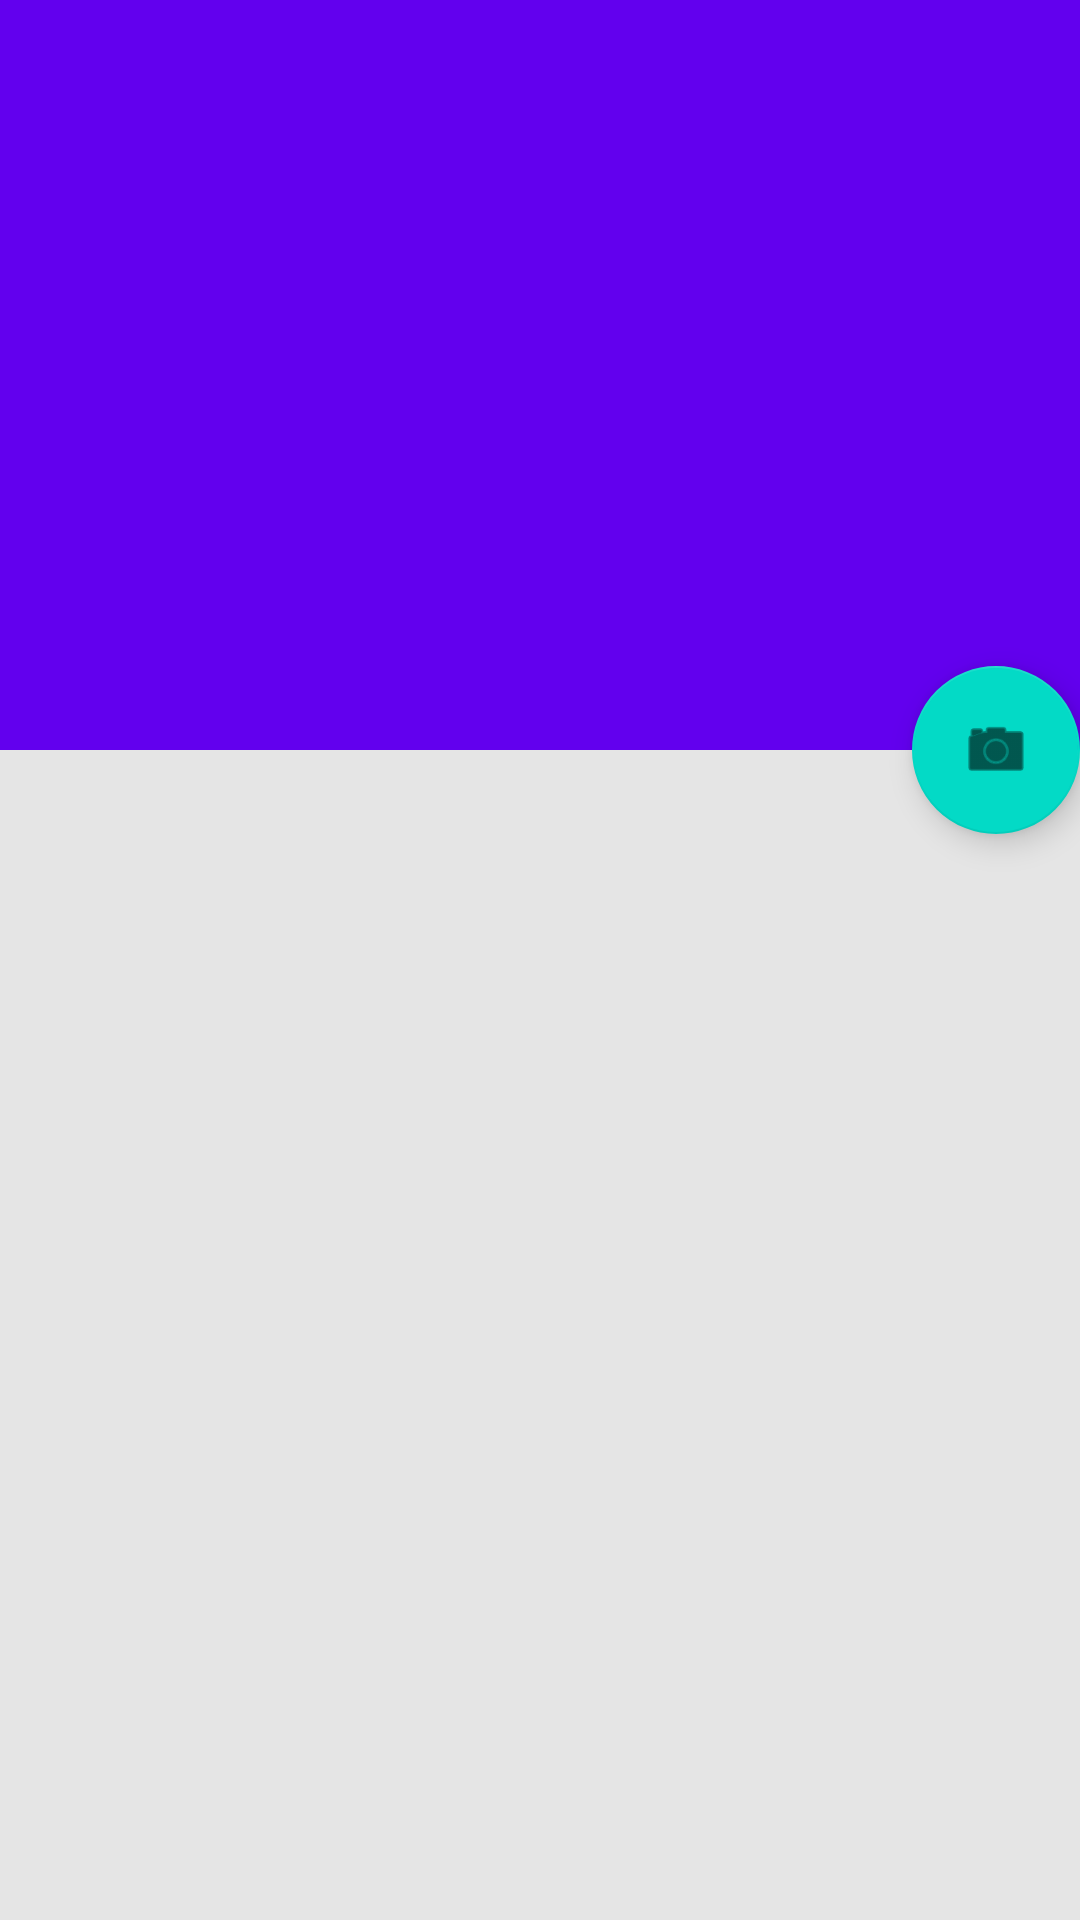

Icons on this 1080px x 1920px Android screen, each with the point to tap as (x=x, y=y):
camera: (x=996, y=750)
